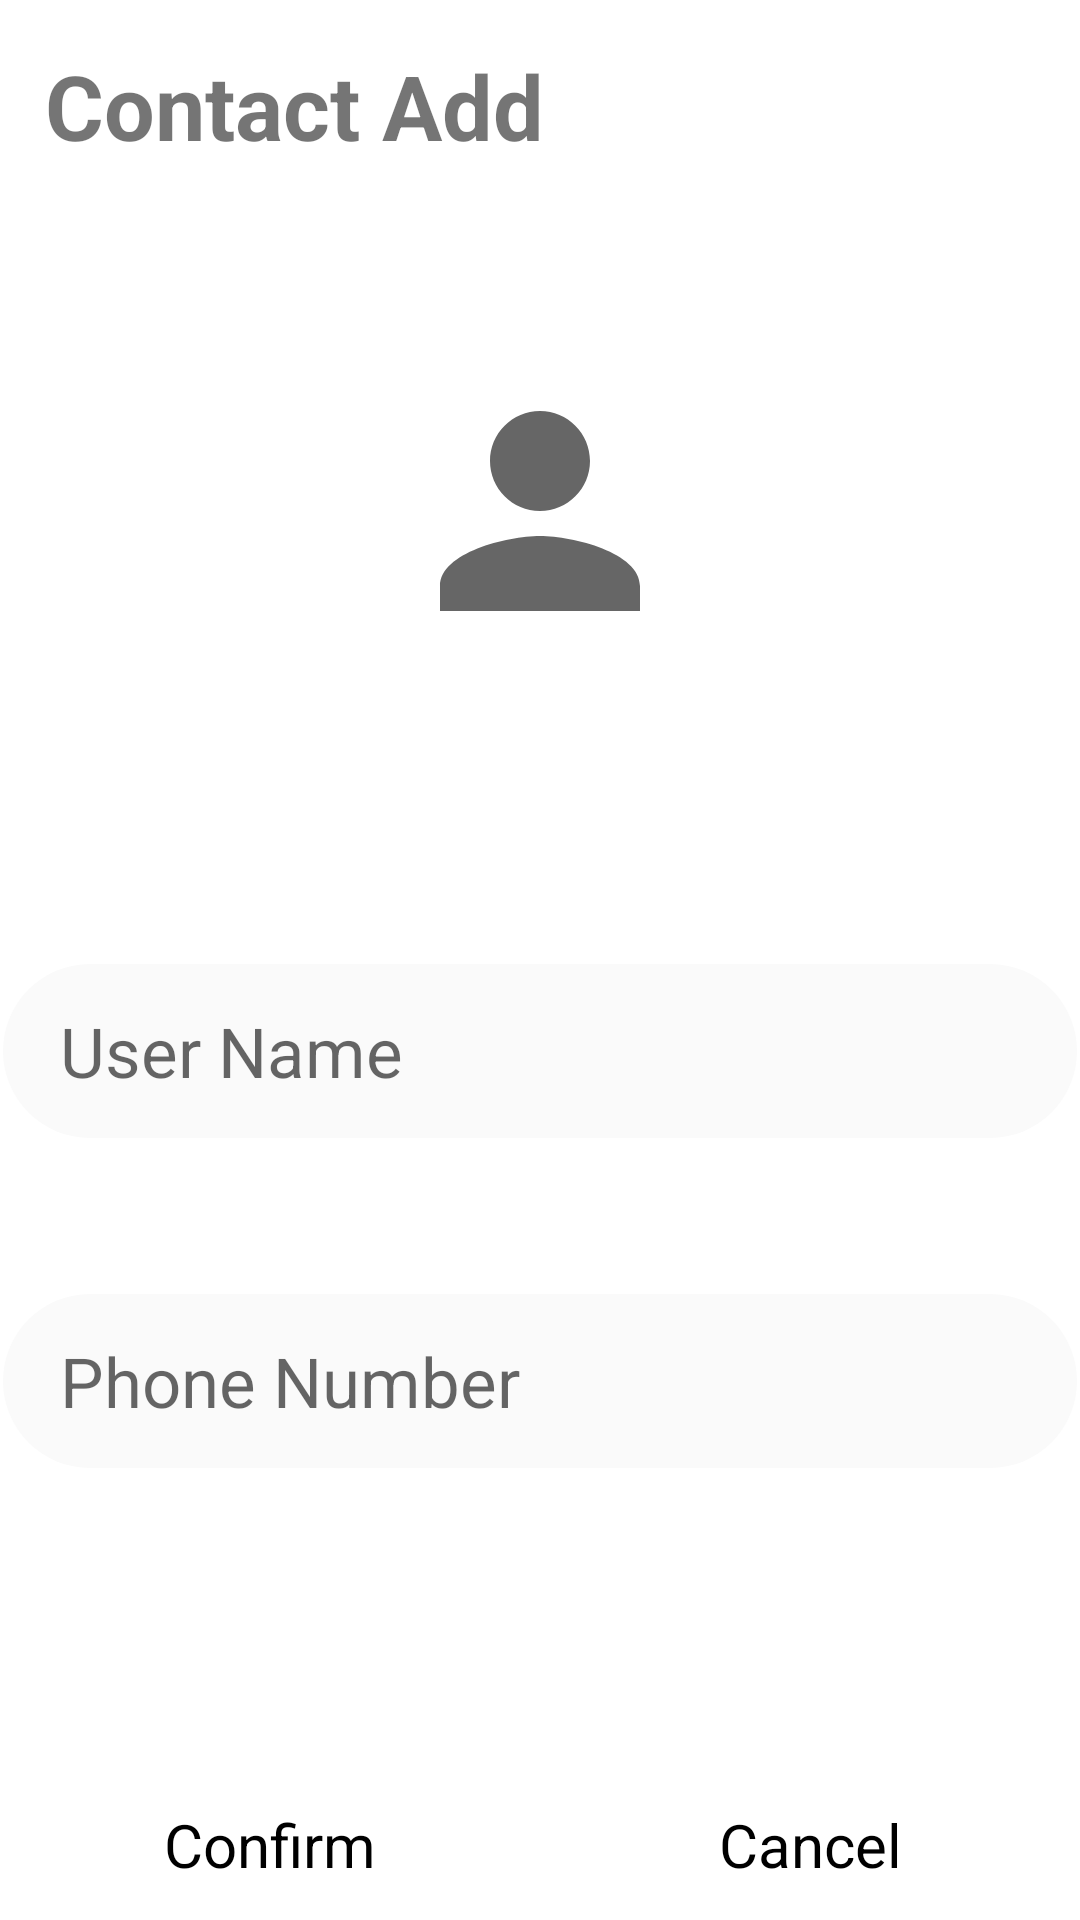

Point at icon controls on the screen. Image size 1080px×1920px, points as point (x, y).
person: point (540, 511)
